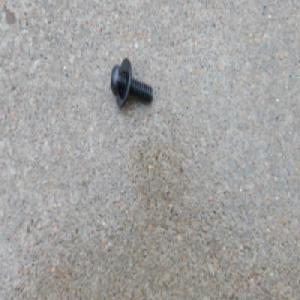BoltWasher: (109, 57, 153, 108)
